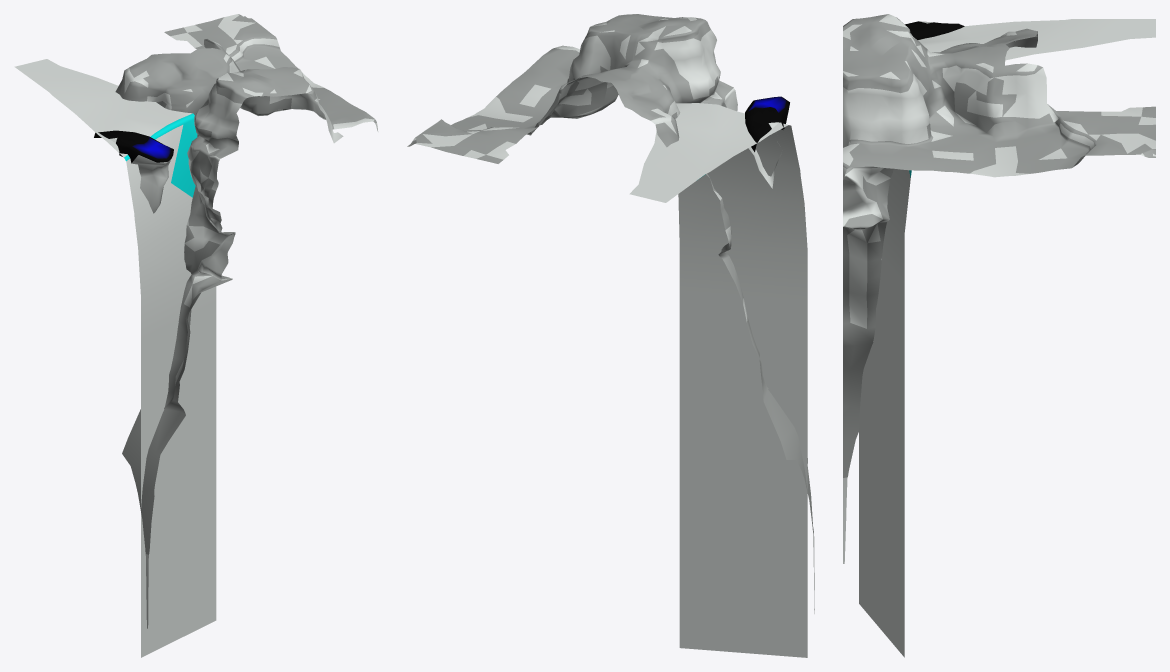
3 views of the same model, side by side, from view 1: azimuth 30°, elevation 25°; view 2: azimuth 150°, elevation 25°; view 3: azimuth 270°, elevation 25° (orthographic). The views are drawn at different scales.
Parts seen in each view (by area): view 1: G:\FFXIV-MapTools\exports\g3f1\bg\ex2\01_gyr_g3\fld\g3f1\bgp (×18); view 2: G:\FFXIV-MapTools\exports\g3f1\bg\ex2\01_gyr_g3\fld\g3f1\bgp (×14); view 3: G:\FFXIV-MapTools\exports\g3f1\bg\ex2\01_gyr_g3\fld\g3f1\bgp (×16).
Part boxes in pixels (<box>): G:\FFXIV-MapTools\exports\g3f1\bg\ex2\01_gyr_g3\fld\g3f1\bgp (×18): <box>14,14,378,657</box>; G:\FFXIV-MapTools\exports\g3f1\bg\ex2\01_gyr_g3\fld\g3f1\bgp (×14): <box>407,14,812,657</box>; G:\FFXIV-MapTools\exports\g3f1\bg\ex2\01_gyr_g3\fld\g3f1\bgp (×16): <box>843,14,1155,657</box>.
Size of the model in its own units: 128 by 290 by 128.
